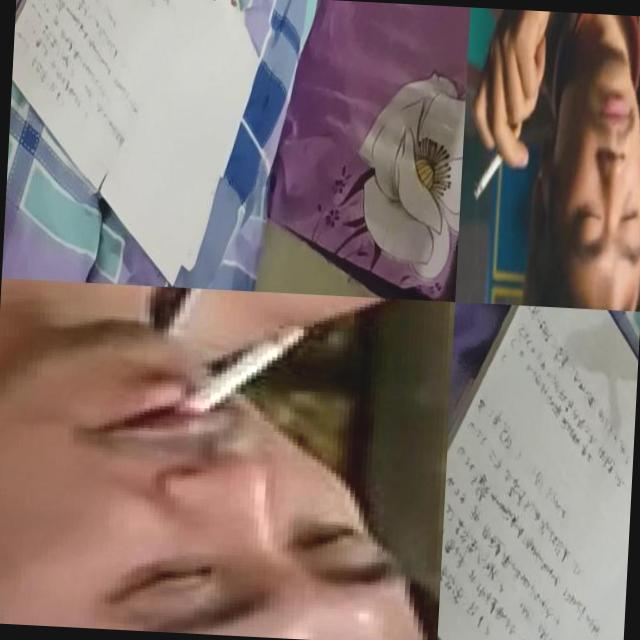cigarette: (165, 318, 307, 431), (472, 123, 519, 203)
